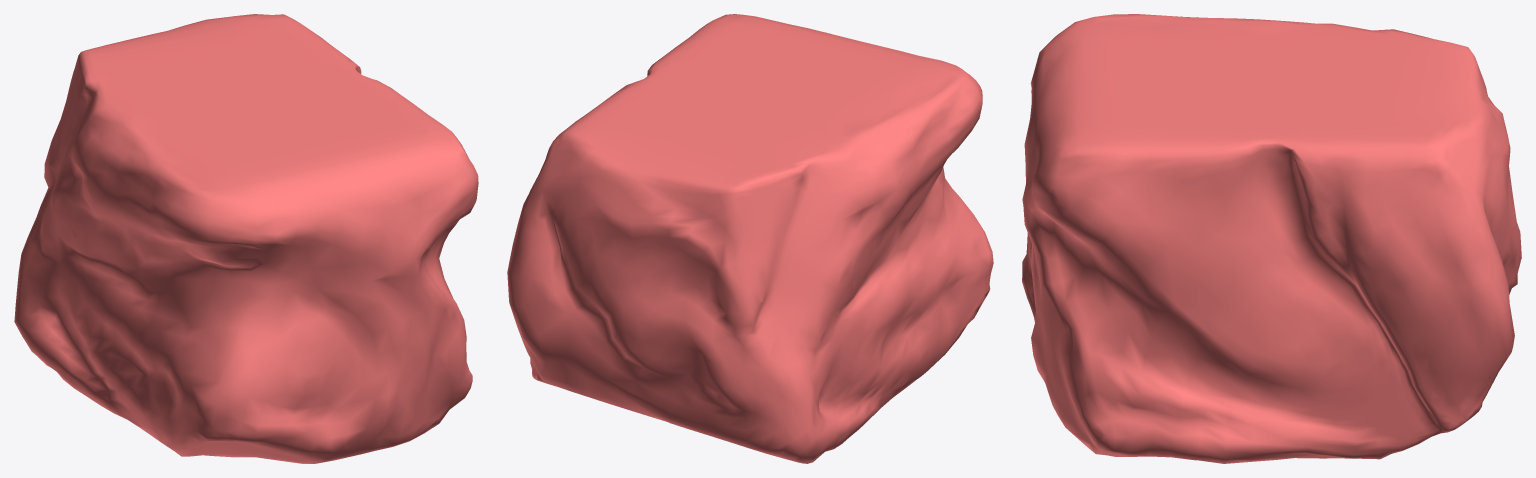
Rendered from Rock12.fbx.
3 renders of one model, left to right at view 1: azimuth 30°, elevation 25°; view 2: azimuth 150°, elevation 25°; view 3: azimuth 270°, elevation 25°, orthographic. The views are drawn at different scales.
Parts seen in each view (by area): view 1: PM3D_Cube3D_1; view 2: PM3D_Cube3D_1; view 3: PM3D_Cube3D_1.
Part boxes in pixels (x1=…): PM3D_Cube3D_1: x1=14, y1=14, x2=478, y2=463; PM3D_Cube3D_1: x1=507, y1=14, x2=993, y2=463; PM3D_Cube3D_1: x1=1022, y1=14, x2=1521, y2=463.
Size of the model in its own units: 2.38 by 2.18 by 3.12.
